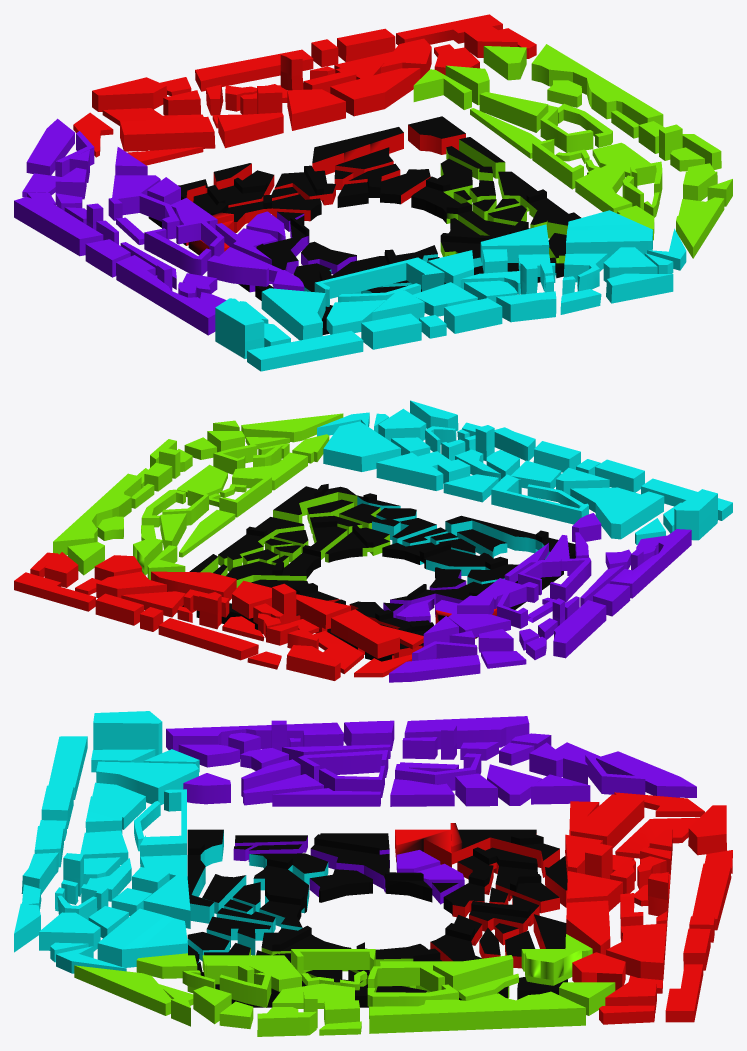
3 renders of one model, top to bottom at view 1: azimuth 30°, elevation 25°; view 2: azimuth 150°, elevation 25°; view 3: azimuth 270°, elevation 25°, orthographic. The views are drawn at different scales.
Visible parts, largest first — view 1: ldv1.1, Bowl001; view 2: ldv1.1, Bowl001; view 3: ldv1.1, Bowl001.
Part boxes in pixels (x1=…): ldv1.1: x1=14, y1=14, x2=732, y2=371; Bowl001: x1=148, y1=116, x2=581, y2=334; ldv1.1: x1=14, y1=400, x2=732, y2=682; Bowl001: x1=177, y1=484, x2=575, y2=661; ldv1.1: x1=14, y1=711, x2=732, y2=1036; Bowl001: x1=187, y1=823, x2=567, y2=1007.
Bounding box in the file's own units: 335 × 39.35 × 336.
